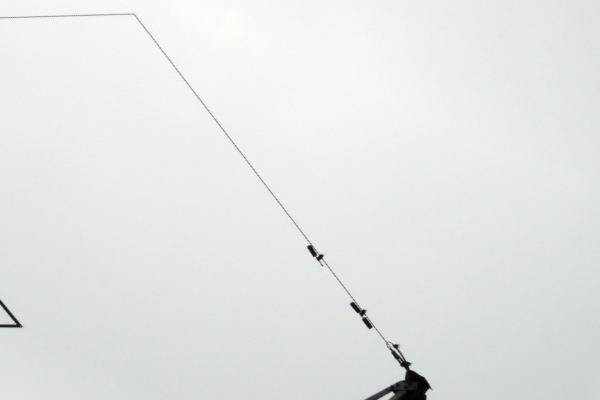damper: (348, 300, 373, 330)
damper_defect: (305, 242, 326, 268)
